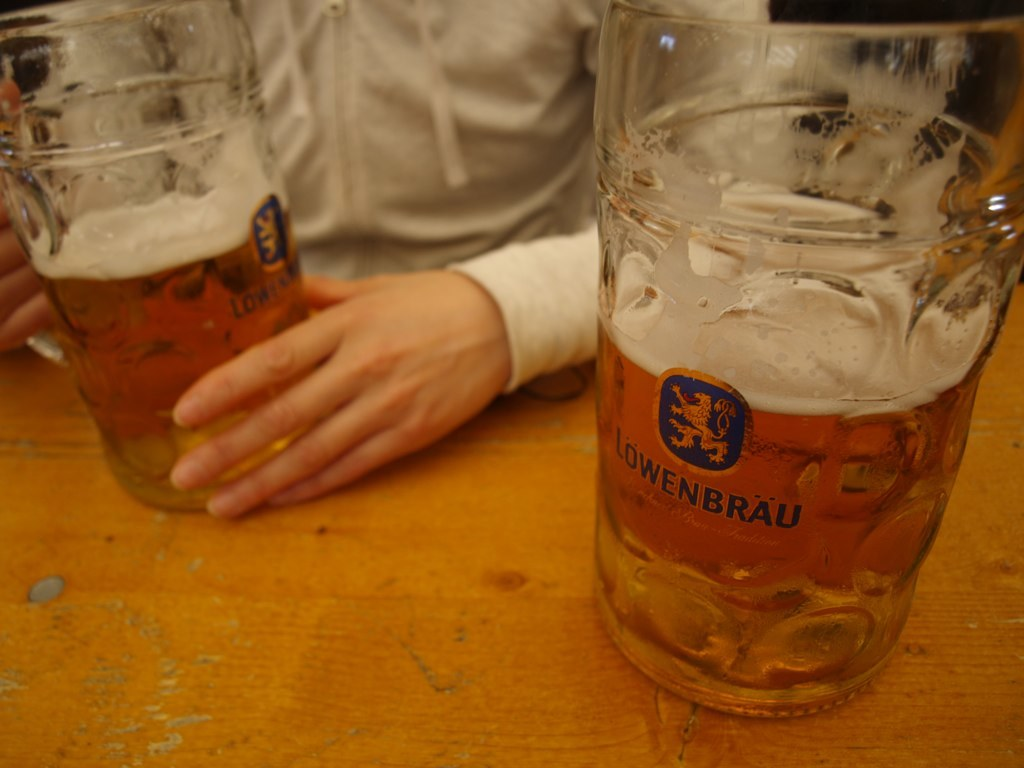Beer: (590, 0, 1022, 722), (1, 0, 323, 509), (600, 253, 984, 619), (21, 180, 316, 443)
